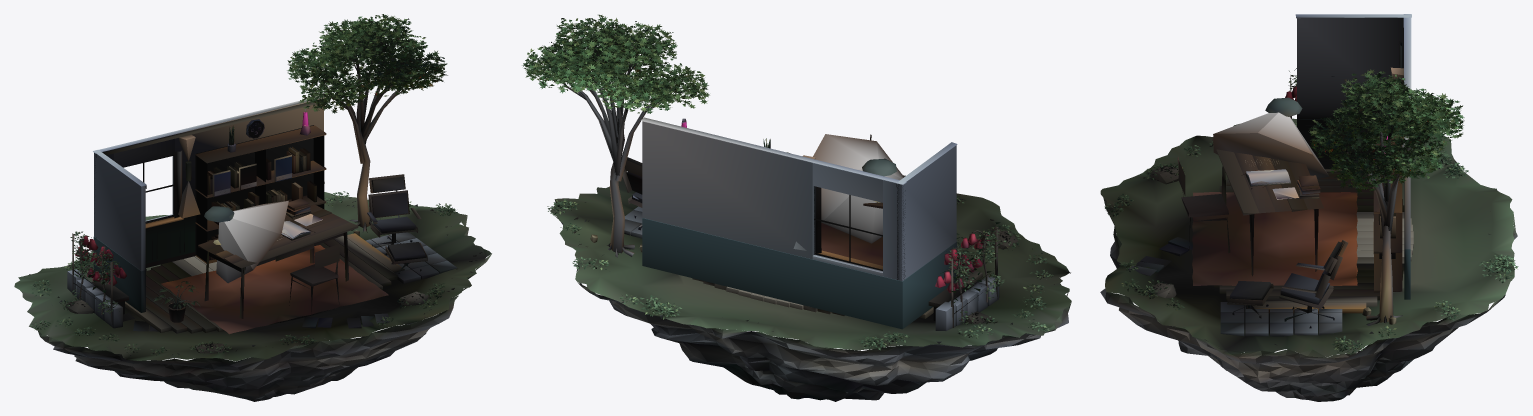
The model's file is flight-writing-627661cc.glb.
3 views of the same model, side by side, from view 1: azimuth 30°, elevation 25°; view 2: azimuth 150°, elevation 25°; view 3: azimuth 270°, elevation 25° (orthographic). The views are drawn at different scales.
Parts seen in each view (by area): view 1: Writing island · flight.001; view 2: Writing island · flight.001; view 3: Writing island · flight.001.
Part boxes in pixels (left/top/right/bottom): Writing island · flight.001: left=14, top=14, right=491, bottom=401; Writing island · flight.001: left=522, top=14, right=1071, bottom=401; Writing island · flight.001: left=1100, top=14, right=1518, bottom=401.
Size of the model in its own units: 11.71 by 8.11 by 8.17.
